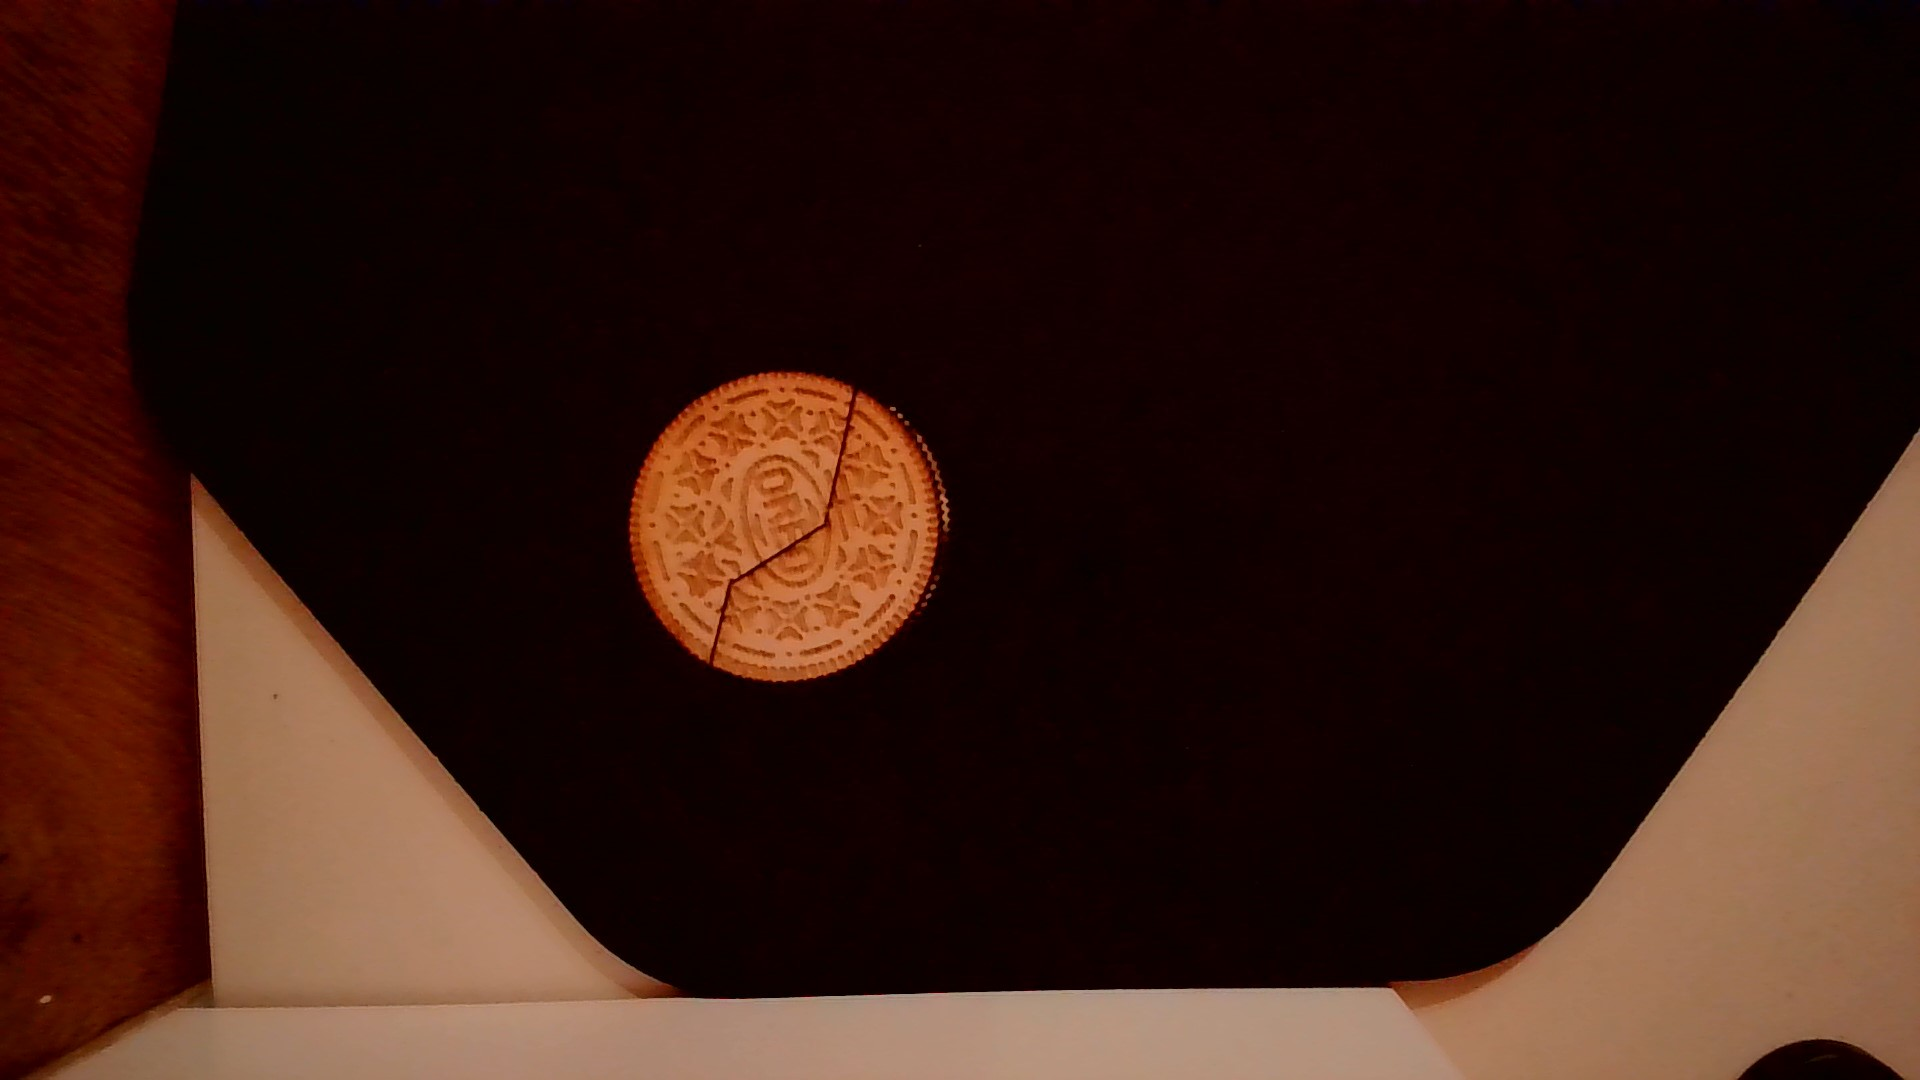Fissure: (700, 376, 870, 676)
Oréo: (618, 364, 956, 687)
